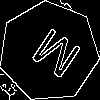M: (24, 27, 84, 88)
